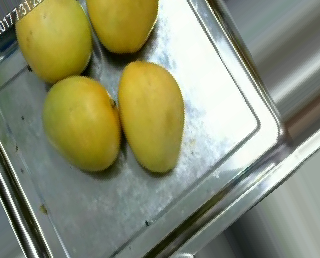Mango: (43, 76, 120, 172), (118, 61, 183, 174), (15, 0, 91, 82), (87, 0, 158, 53)
